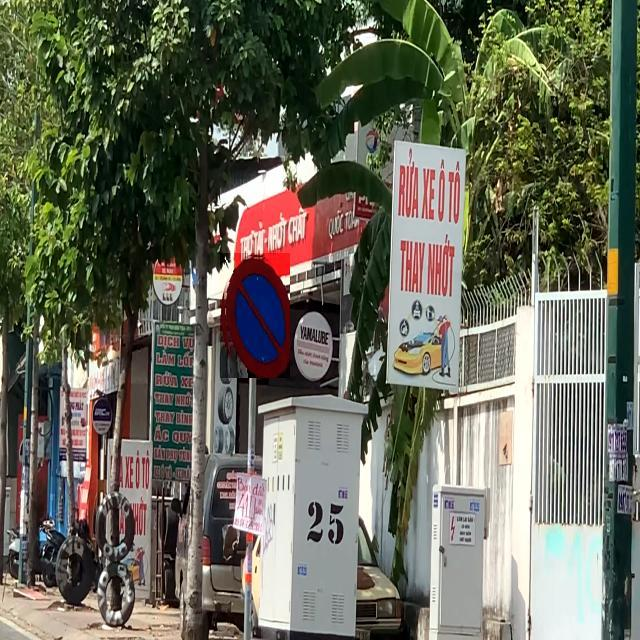P-131a: (221, 253, 291, 378)
